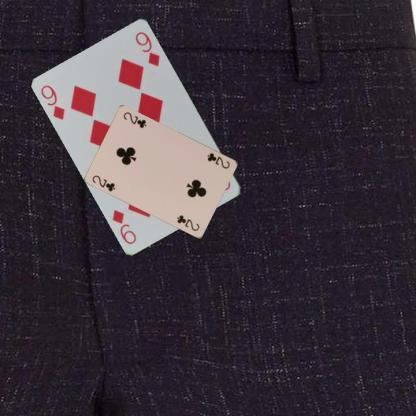2c: (204, 150, 232, 170), (90, 173, 116, 193)
9d: (38, 82, 67, 122)
